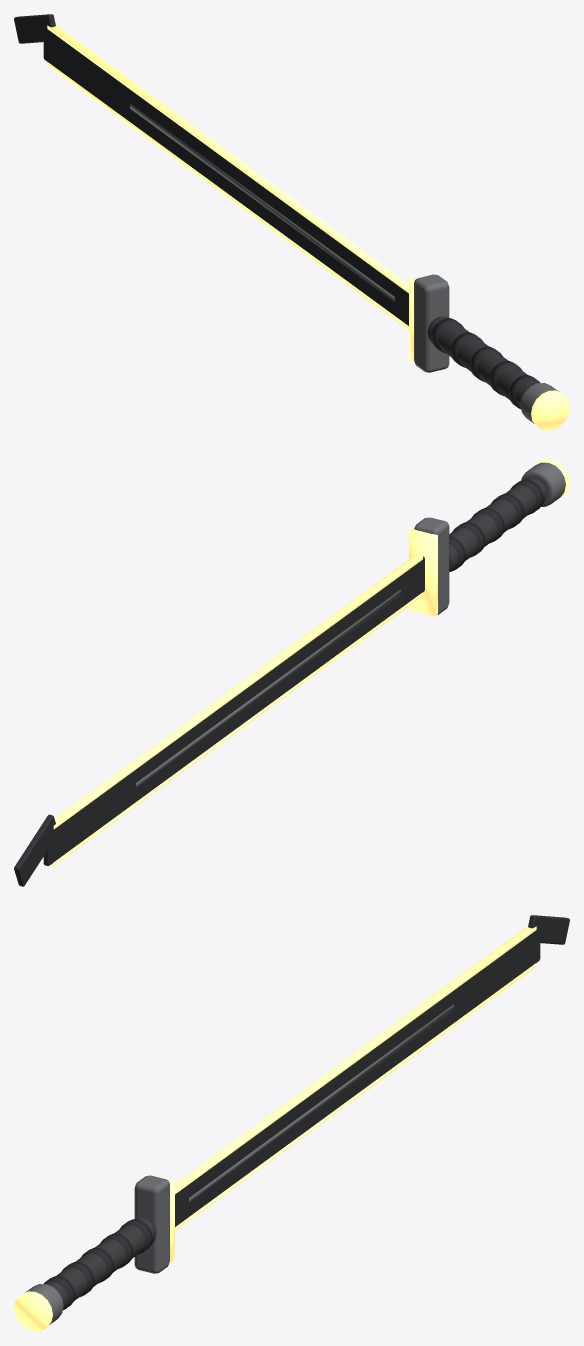
Rendered from agent_blade.glb.
3 renders of one model, top to bottom at view 1: azimuth 30°, elevation 25°; view 2: azimuth 150°, elevation 25°; view 3: azimuth 330°, elevation 25°, orthographic.
Visible parts, largest first — view 1: BladeCore, EdgeA, Guard, Hilt, EdgeB, Fuller, PommelGlow, BladeTip, Pommel; view 2: BladeCore, EdgeA, Hilt, EdgeB, GuardGlow, Fuller, Guard, BladeTip, Pommel; view 3: BladeCore, EdgeA, Guard, Hilt, EdgeB, Fuller, PommelGlow, BladeTip, Pommel.
Boxes of the visible parts, x1=… form: BladeCore: x1=43, y1=27, x2=408, y2=325; EdgeA: x1=47, y1=25, x2=408, y2=293; Guard: x1=414, y1=274, x2=449, y2=372; Hilt: x1=427, y1=316, x2=538, y2=407; EdgeB: x1=47, y1=62, x2=408, y2=330; Fuller: x1=130, y1=103, x2=394, y2=302; PommelGlow: x1=531, y1=390, x2=569, y2=430; BladeTip: x1=14, y1=14, x2=55, y2=43; Pommel: x1=520, y1=383, x2=558, y2=423; BladeCore: x1=43, y1=556, x2=424, y2=865; EdgeA: x1=53, y1=554, x2=422, y2=829; Hilt: x1=449, y1=477, x2=547, y2=571; EdgeB: x1=50, y1=593, x2=422, y2=865; GuardGlow: x1=409, y1=529, x2=437, y2=616; Fuller: x1=136, y1=589, x2=400, y2=788; Guard: x1=414, y1=517, x2=449, y2=614; BladeTip: x1=14, y1=814, x2=57, y2=886; Pommel: x1=521, y1=462, x2=565, y2=506; BladeCore: x1=175, y1=928, x2=540, y2=1226; EdgeA: x1=175, y1=926, x2=536, y2=1194; Guard: x1=134, y1=1175, x2=169, y2=1273; Hilt: x1=45, y1=1217, x2=156, y2=1308; EdgeB: x1=175, y1=963, x2=536, y2=1231; Fuller: x1=189, y1=1004, x2=453, y2=1203; PommelGlow: x1=14, y1=1291, x2=52, y2=1331; BladeTip: x1=528, y1=915, x2=569, y2=944; Pommel: x1=25, y1=1284, x2=63, y2=1324.
Size of the model in its own units: 0.043 by 0.1 by 1.1.
